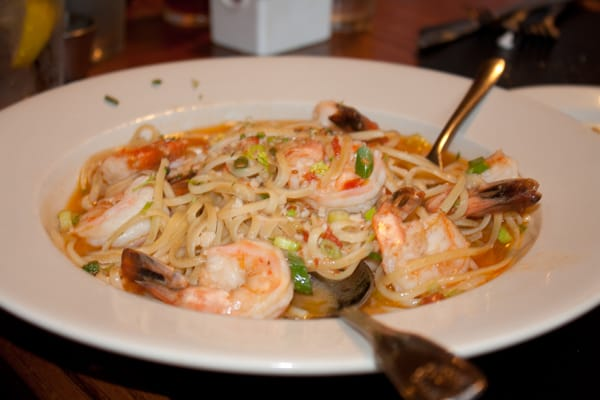pizza: (330, 0, 378, 36)
salad: (338, 305, 490, 397), (426, 54, 506, 167)
sandwich: (417, 7, 533, 53)
